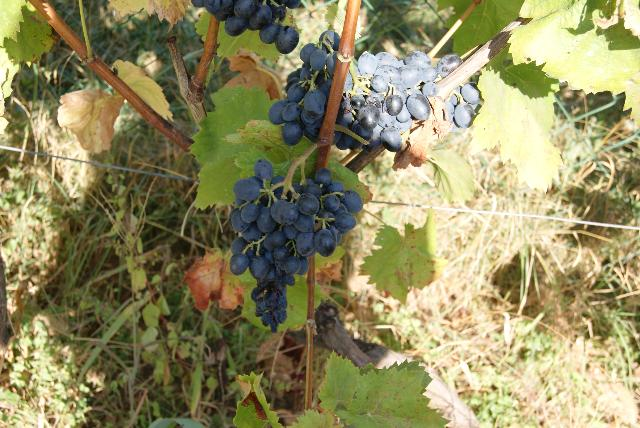grapes: (229, 159, 362, 332), (331, 51, 461, 152), (269, 31, 345, 145), (191, 0, 301, 54)
